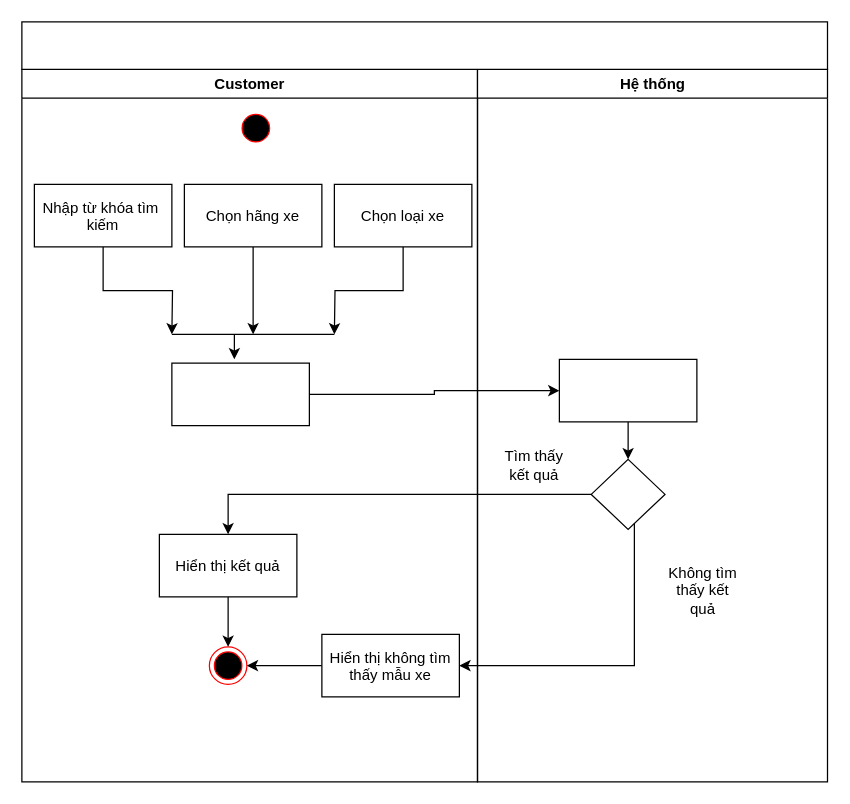
Image size: 850x804. Some labels were removed from this diagram. The centre of each missing label's shape, as x and y in pixels:
Chọn tìm kiếm: (240,394)
Chức năng tìm kiếm: (424,45)
Thực hiện tìm kiếm và trả về kết quả: (627,390)
